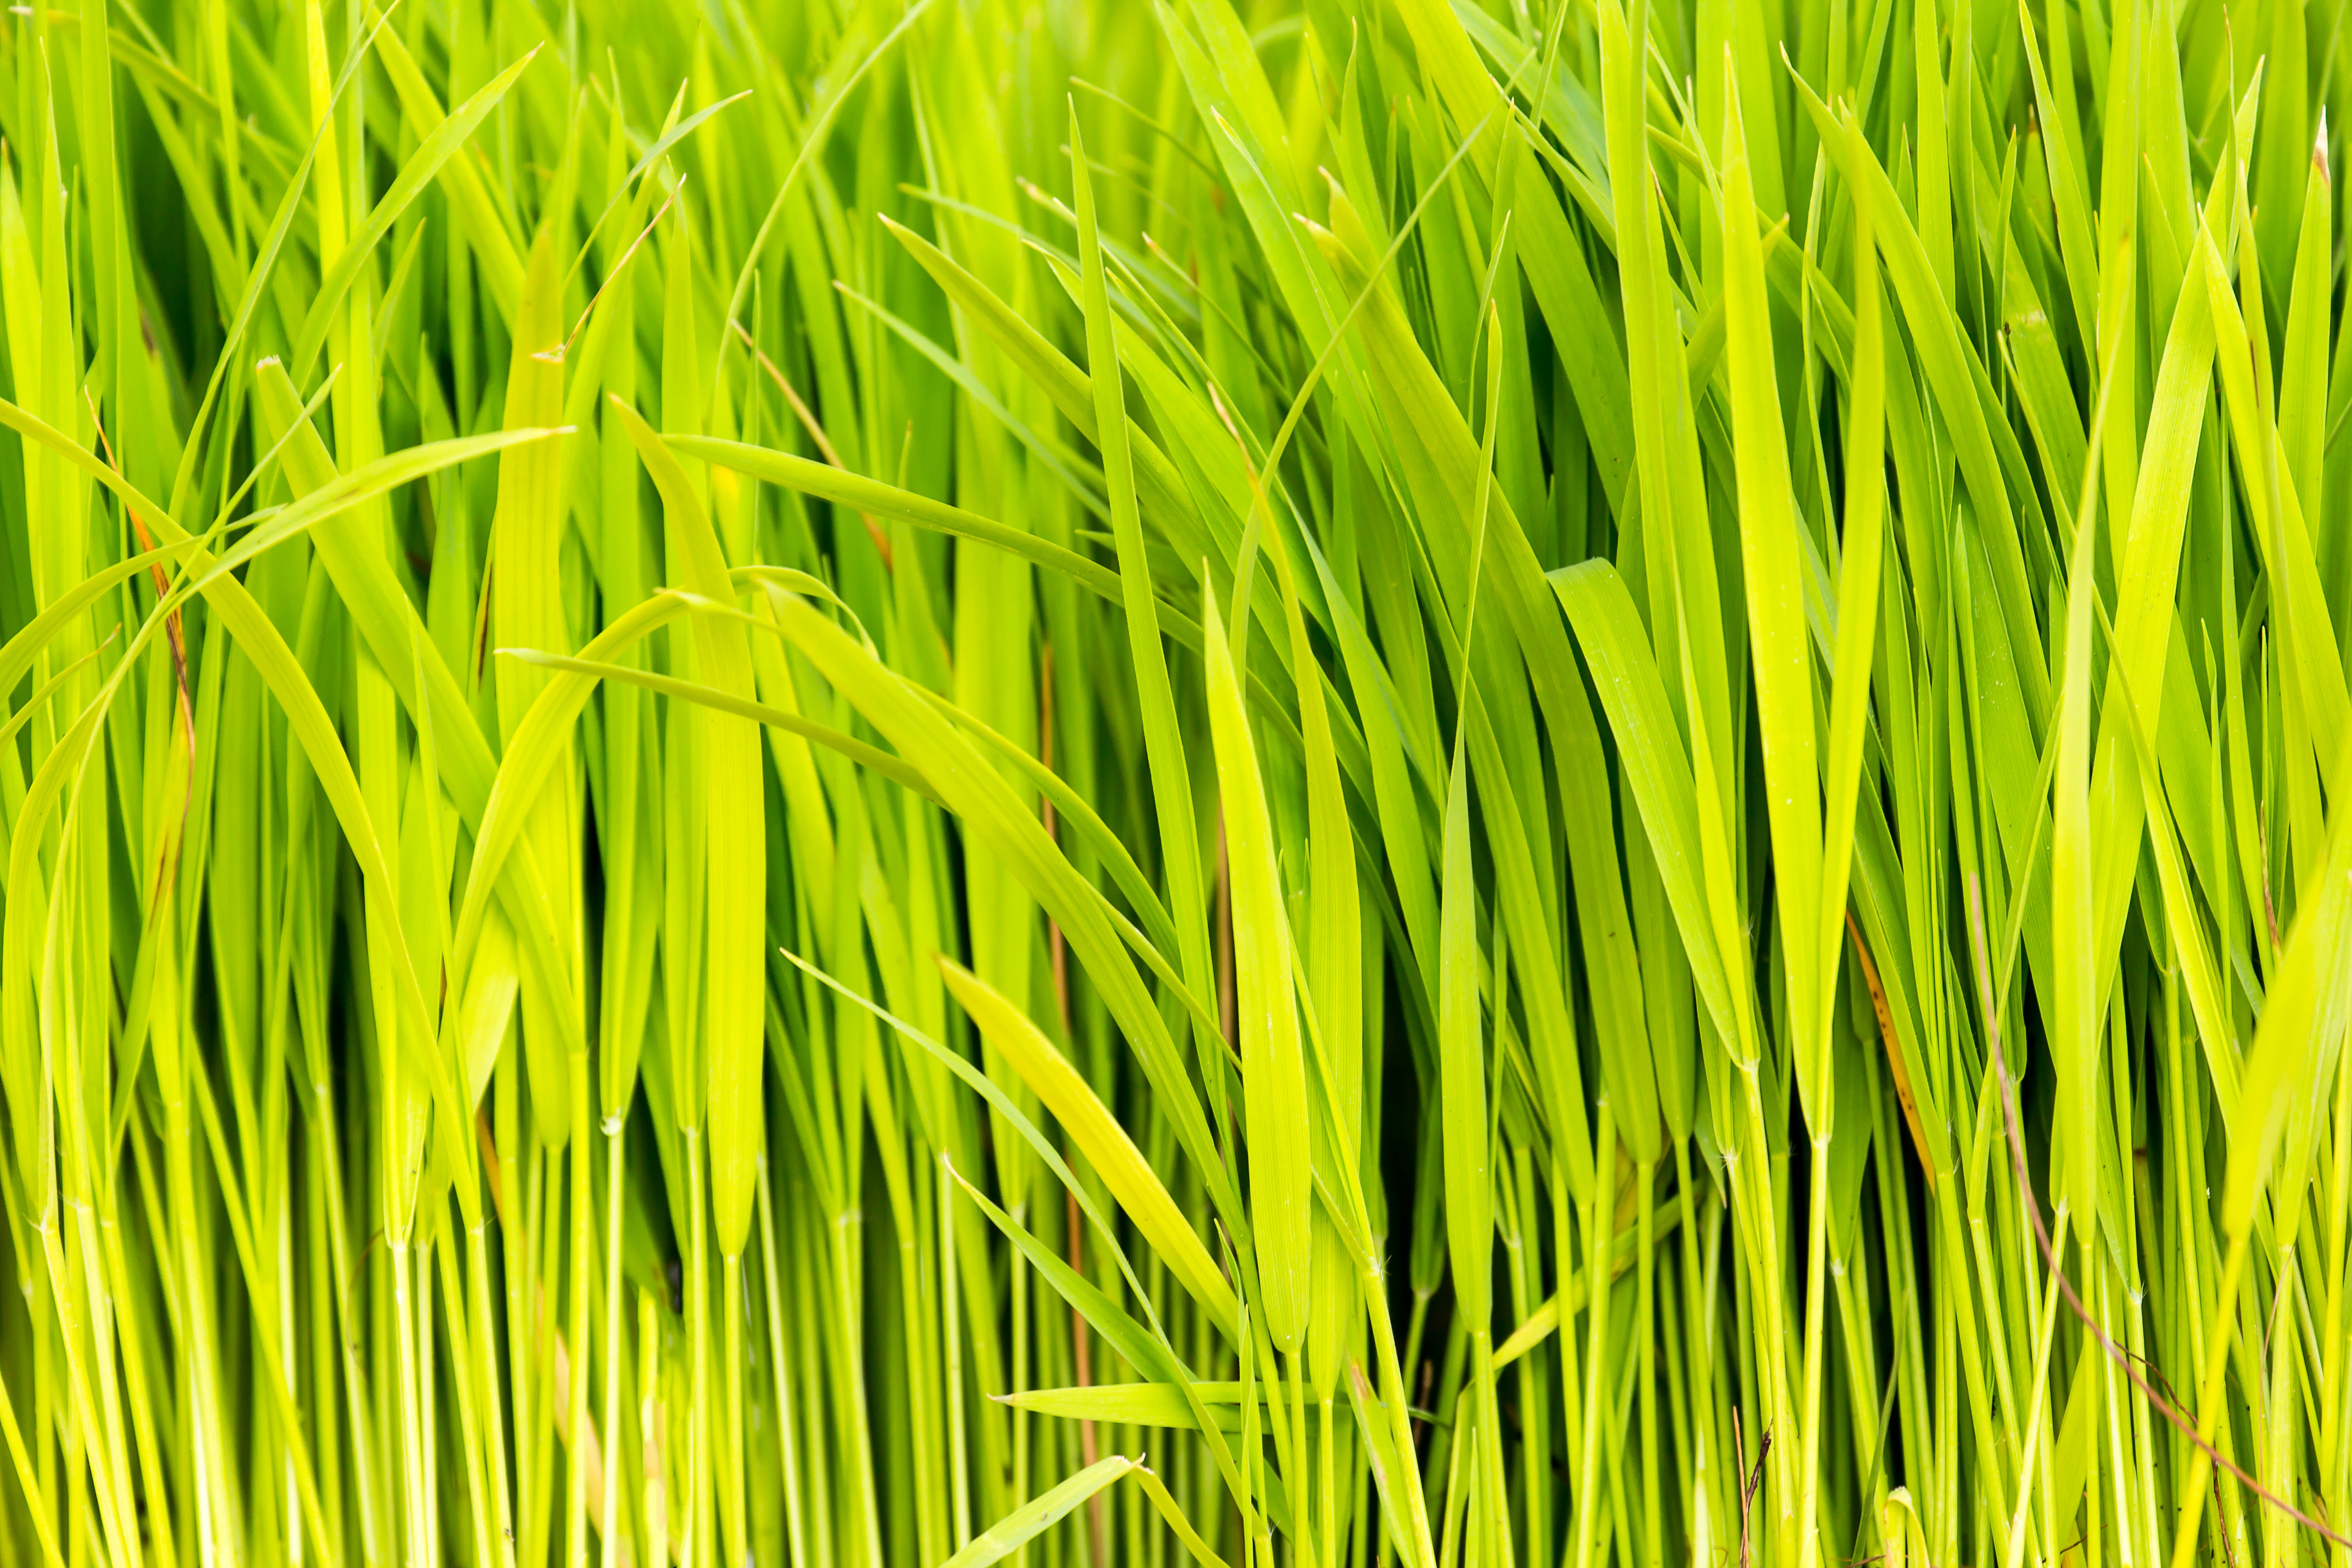grass: (0, 0, 2345, 1559)
